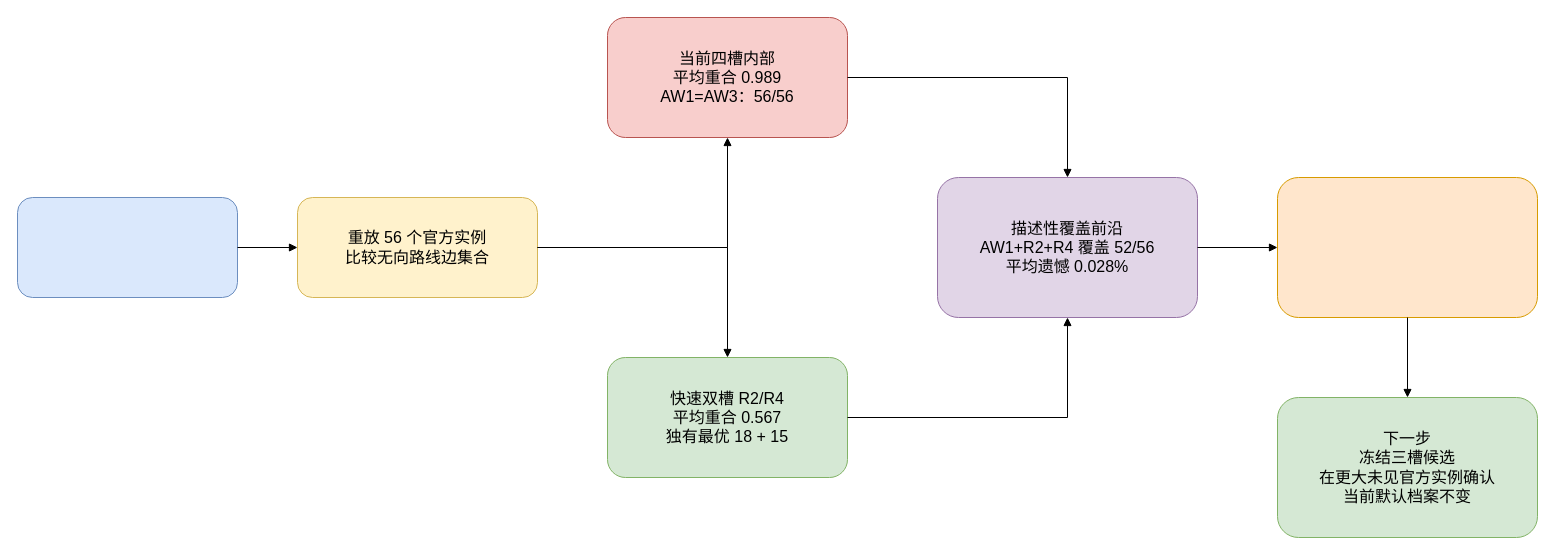
Image size: 1555x555. Some labels were removed from this diagram. The shapes that lost their labels are listed below. From the top down, each one's centre as x and y in pixels, then its label:
(127,247): 六条不同源码 AW1～AW4 + R2/R4
(1407,247): 核心认识 源码槽位数 ≠ 功能槽位数 高成本相关 ≠ 相同行为
